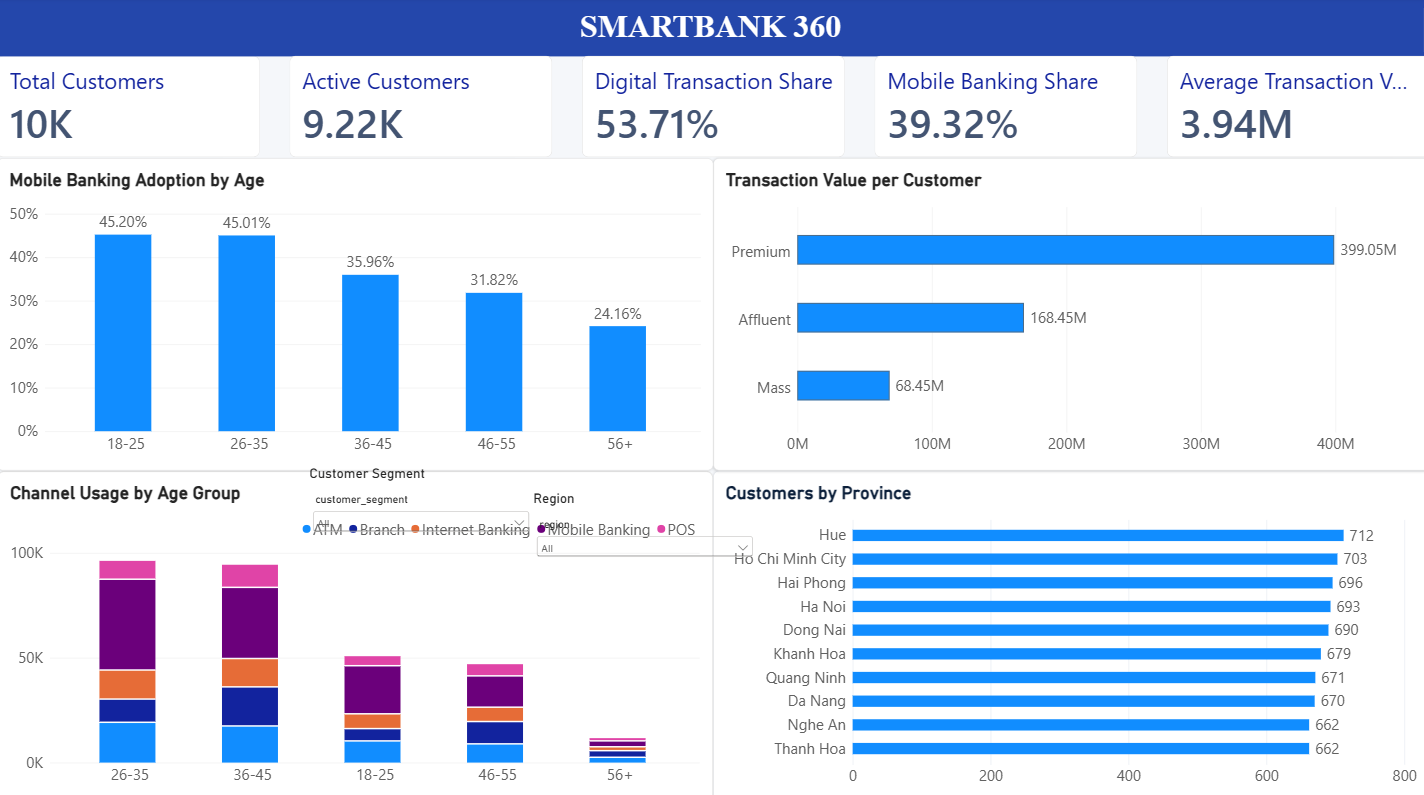

What the dashboard file says about the page in this screenshot:
{"tool":"powerbi","page":{"name":"Customer & Digital Banking","canvas":[1920,1080],"ordinal":1},"visuals":[{"type":"cardVisual","fields":{"Data":["KPI_Measures.Total Customers"]},"box":[0,79.5,352.3,136.4],"z":0},{"type":"shape","box":[0,0,1920.4,80],"z":1000},{"type":"textbox","box":[0,15,1920,63],"z":2000},{"type":"clusteredBarChart","title":"Customers by Province","fields":{"Category":["customers.province"],"Y":["KPI_Measures.Total Customers"]},"box":[960.2,634.4,960.2,445.1],"z":3000},{"type":"cardVisual","fields":{"Data":["KPI_Measures.Active Customers"]},"box":[392,79.5,352.3,136.4],"z":4000},{"type":"cardVisual","fields":{"Data":["KPI_Measures.Digital Transaction Share"]},"box":[784.1,79.5,352.3,136.4],"z":5000},{"type":"cardVisual","fields":{"Data":["KPI_Measures.Mobile Banking Share"]},"box":[1176.1,79.5,352.3,136.4],"z":6000},{"type":"cardVisual","fields":{"Data":["KPI_Measures.Average Transaction Value"]},"box":[1568.1,79.5,352.3,136.4],"z":7000},{"type":"clusteredBarChart","title":"Transaction Value per Customer","fields":{"Category":["customers.customer_segment"],"Y":["KPI_Measures.Transaction Value per Customer"]},"box":[960.2,215.9,960.2,418.5],"z":8000},{"type":"columnChart","title":"Channel Usage by Age Group","fields":{"Category":["customers.Age Group"],"Series":["transactions.transaction_channel"],"Y":["KPI_Measures.Total Transactions"]},"box":[0,634.4,960.2,445.1],"z":9000},{"type":"clusteredColumnChart","title":"Mobile Banking Adoption by Age","fields":{"Category":["customers.Age Group"],"Y":["KPI_Measures.Mobile Banking Share"]},"box":[0,215.9,960.2,418.5],"z":10000},{"type":"slicer","title":"Customer Segment","fields":{"Values":["customers.customer_segment"]},"box":[418.5,628.8,299.2,90.9],"z":10001},{"type":"slicer","title":"Region","fields":{"Values":["branches.region"]},"box":[717.8,661,299.2,89],"z":10002}]}

Visuals, with their boxes in screenshot pixels (x1, y1, x2, y2), scaled from the page's 1920x1080 canvas onto the 1424x795 screenshot:
cardVisual - KPI_Measures.Total Customers: 0, 59, 261, 159
shape: 0, 0, 1423, 59
textbox: 0, 11, 1423, 57
"Customers by Province" clusteredBarChart: 712, 467, 1423, 794
cardVisual - KPI_Measures.Active Customers: 291, 59, 552, 159
cardVisual - KPI_Measures.Digital Transaction Share: 582, 59, 843, 159
cardVisual - KPI_Measures.Mobile Banking Share: 872, 59, 1134, 159
cardVisual - KPI_Measures.Average Transaction Value: 1163, 59, 1423, 159
"Transaction Value per Customer" clusteredBarChart: 712, 159, 1423, 467
"Channel Usage by Age Group" columnChart: 0, 467, 712, 794
"Mobile Banking Adoption by Age" clusteredColumnChart: 0, 159, 712, 467
"Customer Segment" slicer: 310, 463, 532, 530
"Region" slicer: 532, 487, 754, 552
